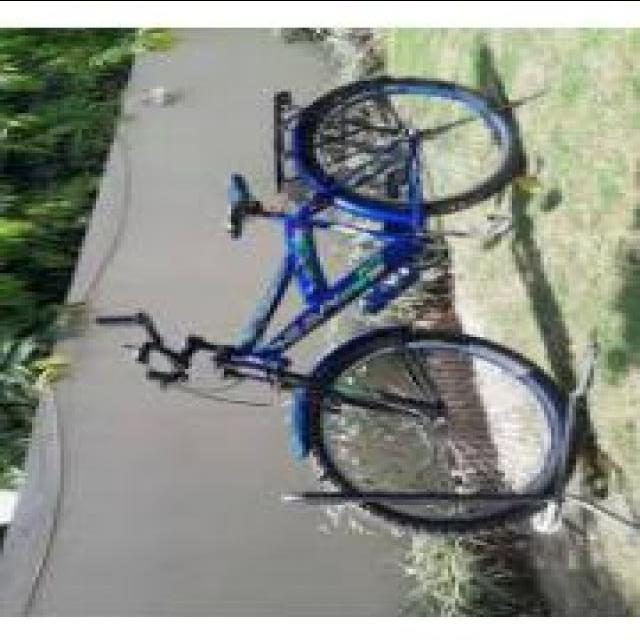bicycle: (122, 68, 584, 534)
